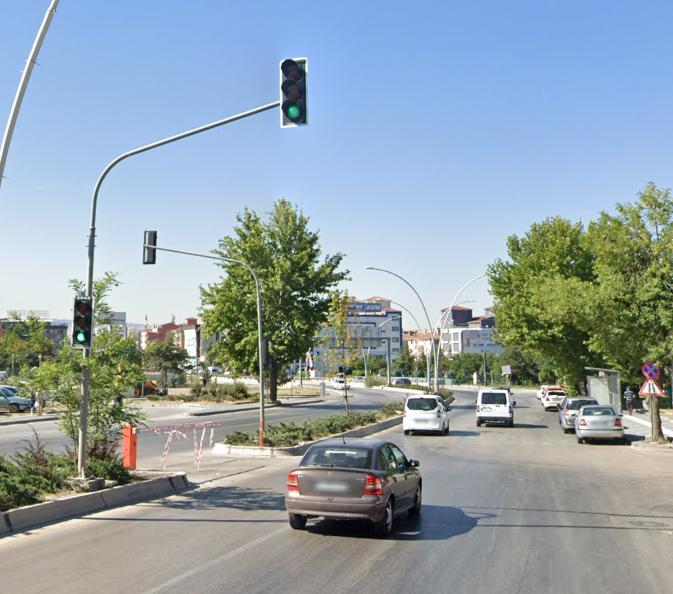greenlight: (277, 53, 310, 127), (70, 294, 95, 349)
